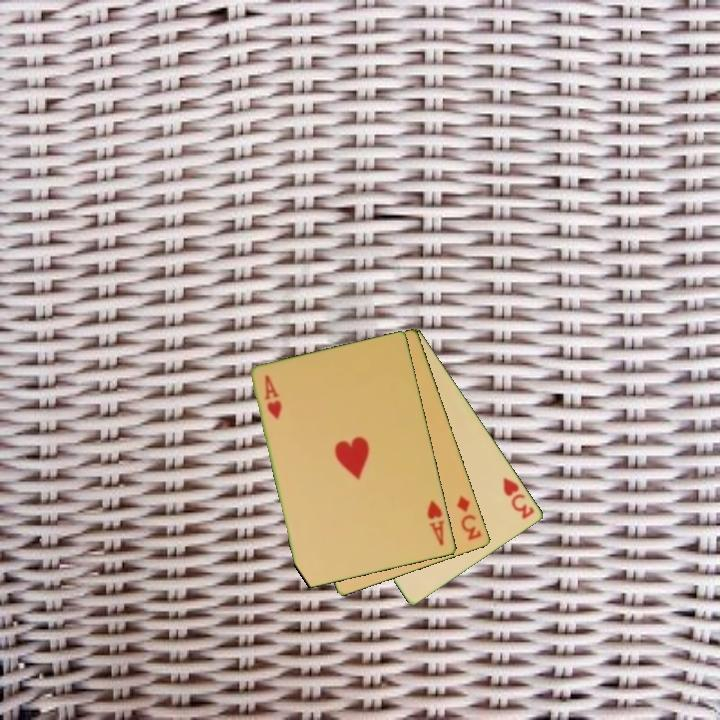3d: (454, 492, 485, 543)
3h: (500, 474, 538, 522)
Ah: (424, 497, 448, 549), (261, 371, 284, 422)
